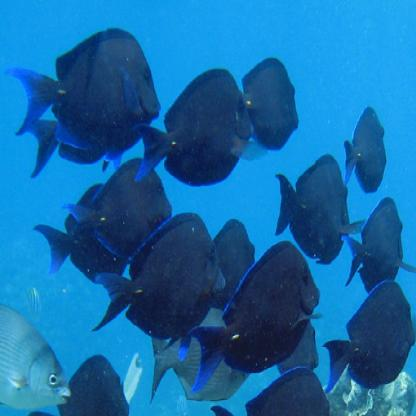Acanthuridae -Surgeonfishes-: (190, 232, 319, 401), (88, 209, 224, 351), (4, 32, 167, 149), (132, 66, 257, 186), (318, 276, 416, 396), (273, 145, 360, 271), (223, 56, 306, 150), (343, 193, 416, 298), (336, 91, 395, 194)
